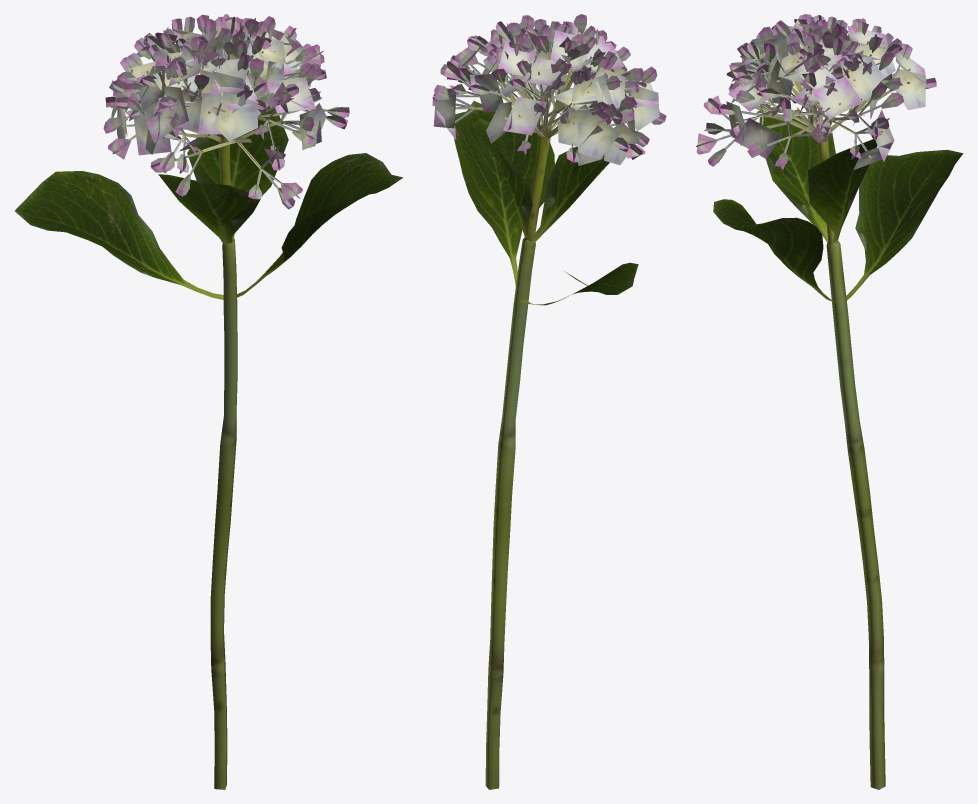
The model's file is Hydrangea_baby_normal_pink.glb.
3 renders of one model, left to right at view 1: azimuth 30°, elevation 25°; view 2: azimuth 150°, elevation 25°; view 3: azimuth 270°, elevation 25°, orthographic. The views are drawn at different scales.
Parts seen in each view (by area): view 1: BABY; view 2: BABY; view 3: BABY.
Part boxes in pixels (left/top/right/bottom): BABY: left=15, top=14, right=402, bottom=789; BABY: left=432, top=14, right=666, bottom=789; BABY: left=696, top=14, right=963, bottom=789.
Bounding box in the file's own units: 0.7928 × 2.22 × 0.7195.
1 material, 1 textured.
